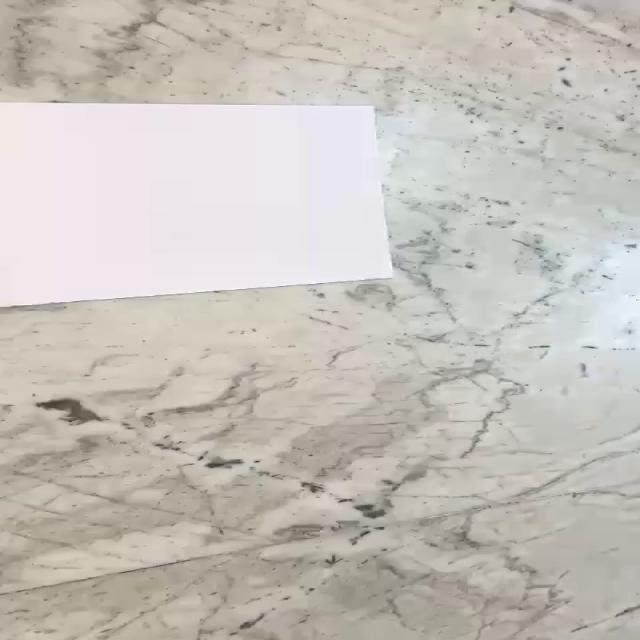road: (0, 102, 393, 309)
